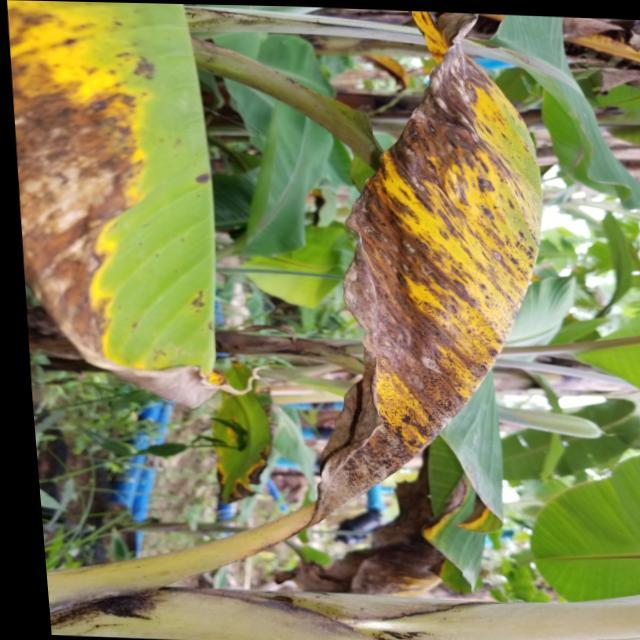Early_rust: (291, 0, 555, 495), (0, 0, 243, 419), (411, 444, 529, 561)
